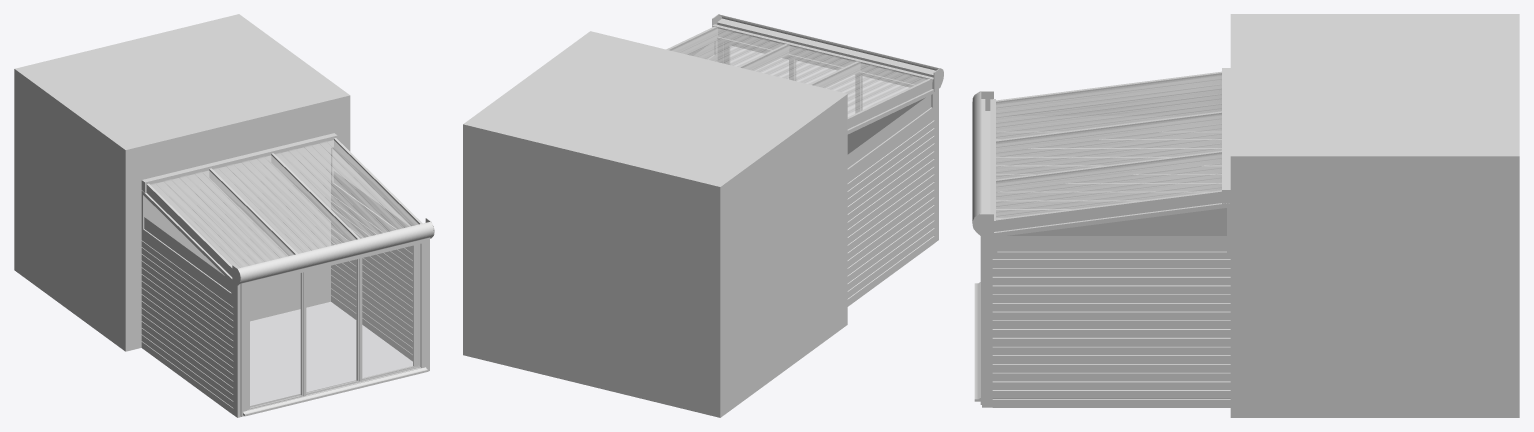
The model's file is BasicVeranda11.glb.
The picture shows the model from 3 angles, left to right: view 1: azimuth 30°, elevation 25°; view 2: azimuth 150°, elevation 25°; view 3: azimuth 270°, elevation 25°; orthographic projection. The views are drawn at different scales.
Visible parts, largest first — view 1: Huis, ZijwandRabatLinks, ZijwandRabatRechts, WindowPanelLeft, WindowPanelMid, WindowPanelRight, PolyKanaalplaat03, PolyKanaalplaat01, PolyKanaalplaat02, WindowFrame, GootProfiel, MuurProfiel (+10 smaller); view 2: Huis, ZijwandRabatLinks, GootProfiel, PolyKanaalplaat03, PolyKanaalplaat01, PolyKanaalplaat02, SpieGrootPolyLinks, EindLiggerLinks, SpieGrootLinks, Legs01Left, WindowPanelRight, WindowPanelMid (+3 smaller); view 3: Huis, ZijwandRabatRechts, ZijwandRabatLinks, PolyKanaalplaat03, PolyKanaalplaat01, PolyKanaalplaat02, SpieGrootPolyRechts, SpieGrootPolyLinks, SpieGrootRechts, EindLiggerRechts, Ligger02, Ligger01 (+6 smaller).
Boxes of the visible parts, left/top/right/bottom form: Huis: left=14, top=14, right=350, bottom=351; ZijwandRabatLinks: left=141, top=231, right=233, bottom=414; ZijwandRabatRechts: left=331, top=185, right=412, bottom=361; WindowPanelLeft: left=247, top=272, right=306, bottom=409; WindowPanelMid: left=300, top=258, right=362, bottom=394; WindowPanelRight: left=356, top=244, right=418, bottom=380; PolyKanaalplaat03: left=150, top=170, right=293, bottom=268; PolyKanaalplaat01: left=275, top=140, right=418, bottom=238; PolyKanaalplaat02: left=213, top=155, right=356, bottom=253; WindowFrame: left=240, top=238, right=428, bottom=416; GootProfiel: left=238, top=221, right=433, bottom=283; MuurProfiel: left=141, top=133, right=337, bottom=193; Huis: left=463, top=31, right=847, bottom=417; ZijwandRabatLinks: left=847, top=110, right=934, bottom=306; GootProfiel: left=712, top=14, right=939, bottom=89; PolyKanaalplaat03: left=814, top=63, right=927, bottom=116; PolyKanaalplaat01: left=671, top=28, right=784, bottom=66; PolyKanaalplaat02: left=743, top=46, right=855, bottom=84; SpieGrootPolyLinks: left=847, top=95, right=931, bottom=167; EindLiggerLinks: left=847, top=79, right=932, bottom=128; SpieGrootLinks: left=847, top=89, right=934, bottom=172; Legs01Left: left=934, top=89, right=938, bottom=242; WindowPanelRight: left=724, top=42, right=794, bottom=80; WindowPanelMid: left=795, top=60, right=861, bottom=112; Huis: left=1230, top=14, right=1519, bottom=417; ZijwandRabatRechts: left=992, top=256, right=1230, bottom=407; ZijwandRabatLinks: left=996, top=136, right=1221, bottom=218; PolyKanaalplaat03: left=996, top=75, right=1221, bottom=139; PolyKanaalplaat01: left=996, top=154, right=1221, bottom=218; PolyKanaalplaat02: left=996, top=114, right=1221, bottom=179; SpieGrootPolyRechts: left=997, top=208, right=1226, bottom=251; SpieGrootPolyLinks: left=997, top=88, right=1221, bottom=131; SpieGrootRechts: left=992, top=203, right=1230, bottom=256; EindLiggerRechts: left=994, top=190, right=1221, bottom=231; Ligger02: left=996, top=111, right=1221, bottom=152; Ligger01: left=996, top=150, right=1221, bottom=191.
Size of the model in its own units: 35 by 30 by 56.84.
Materials: 4 (1 with a texture image).
